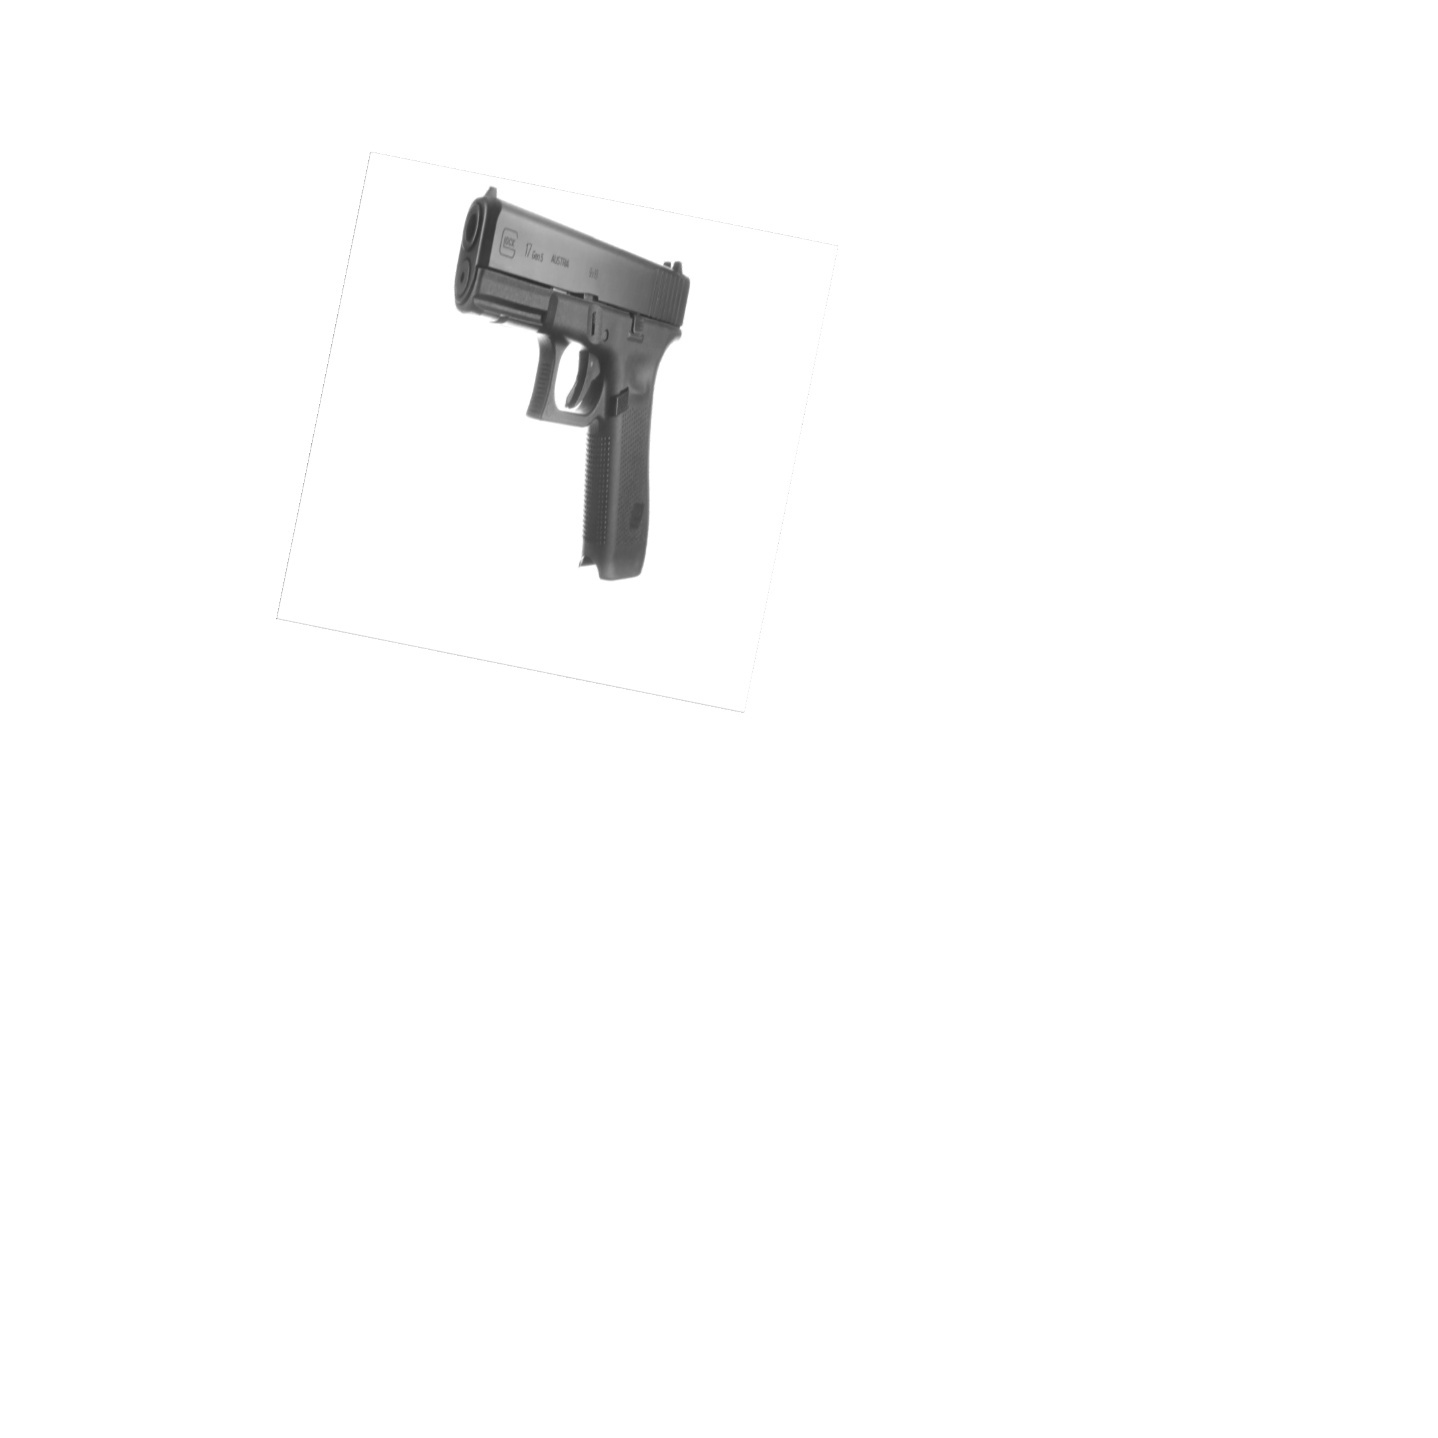gun: (428, 182, 707, 590)
